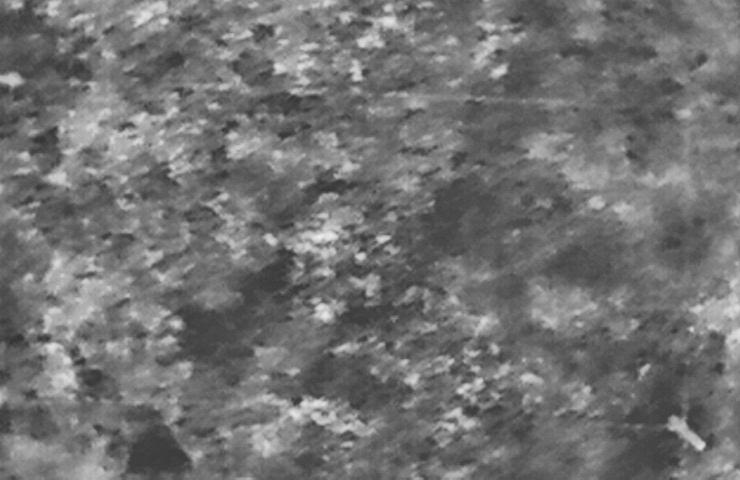landmines: (283, 208, 352, 266)
